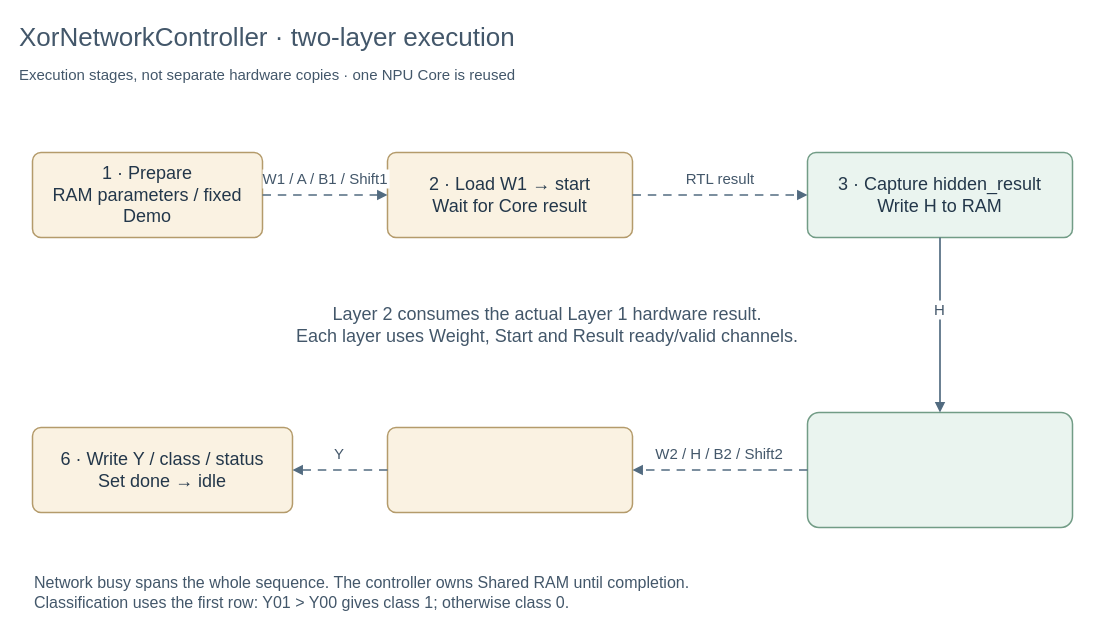
This 1104x634 diagram has some shape labels left out. The centre of each missing label's shape, as x and y in pixels:
"4 · Prepare second layer Activation ← hidden_result Load B2 / Shift2" goes at [939,469].
"5 · Load W2 → start Wait for Core result" goes at [509,469].
